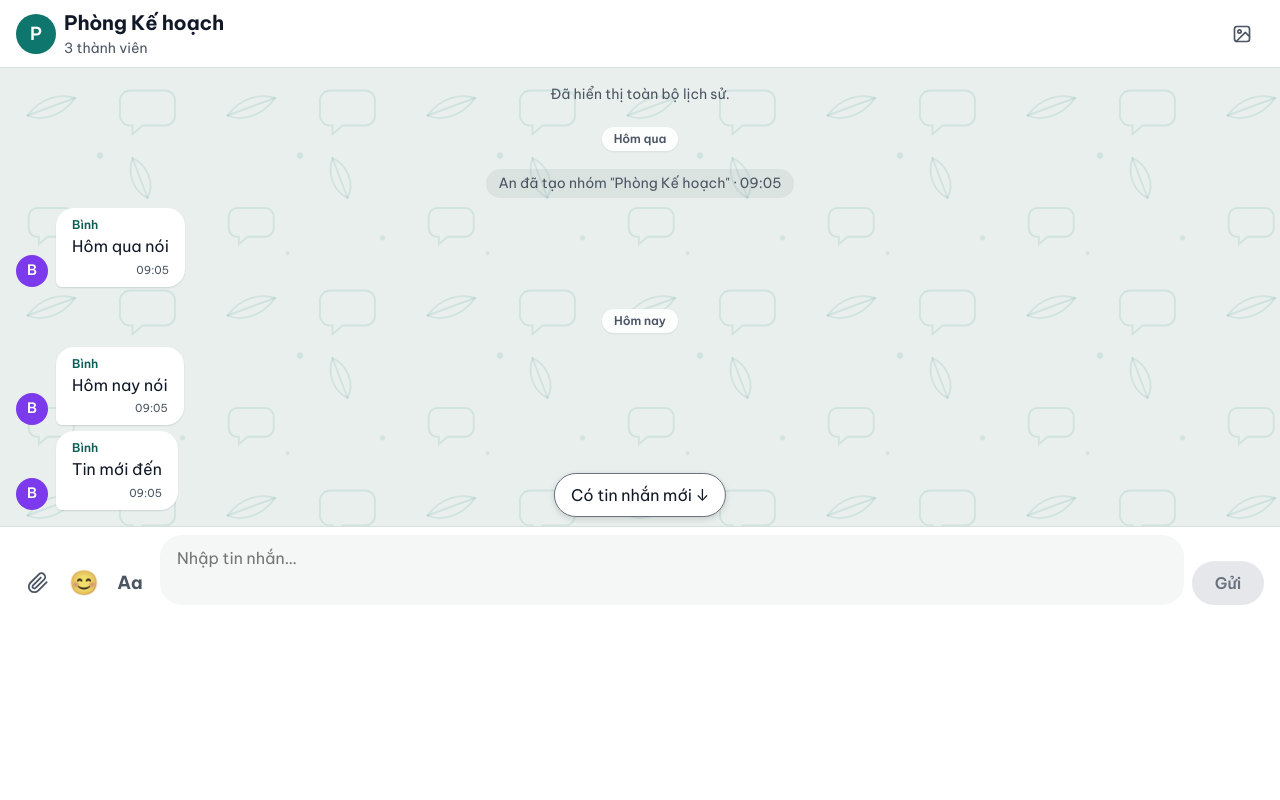
Test: SC-04 theo ui-design › GF-15: đang đọc tin cũ (không ở đáy) mà có tin mới → nút 'Có tin nhắn mới ↓'; bấm thì ẩn
Expected: the text "Hôm nay nói" is shown, [72, 374, 168, 397]
Click the button "Có tin nhắn mới ↓".
click(640, 494)  # box [554, 472, 726, 516]
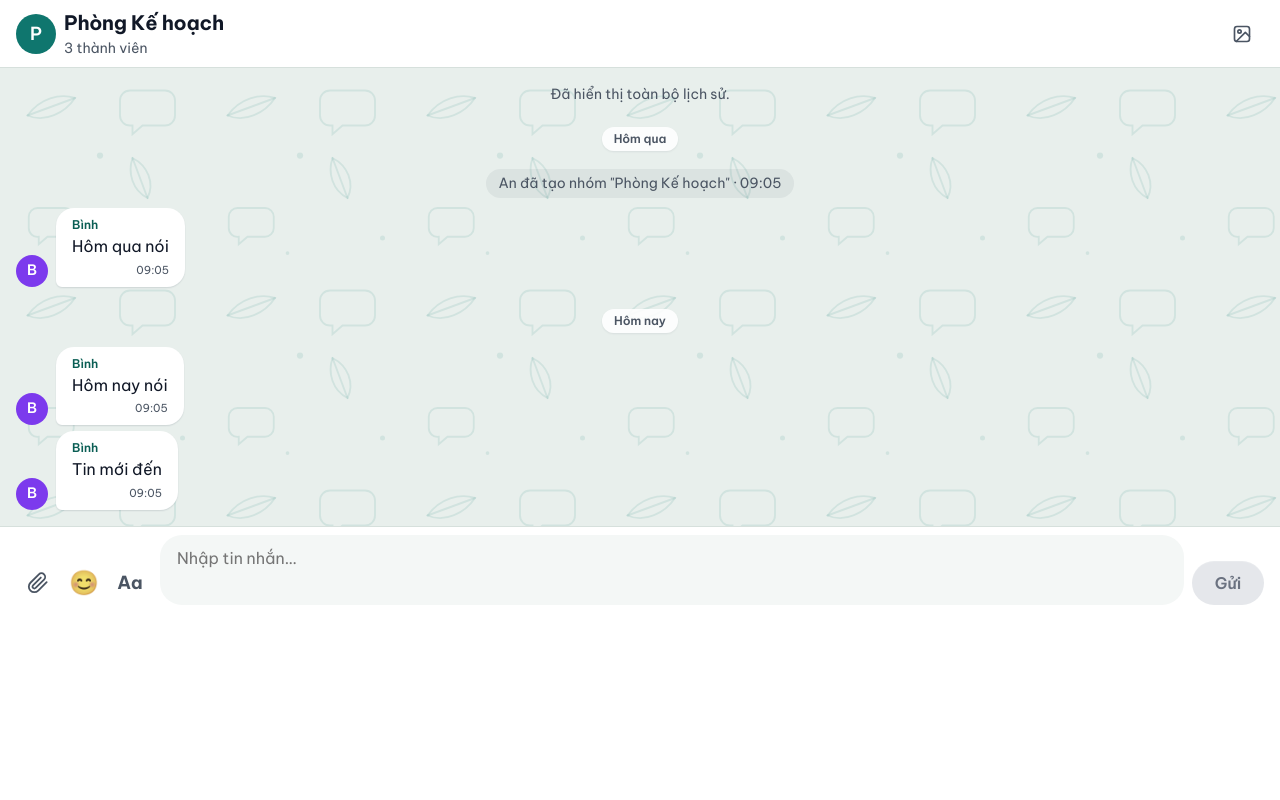
Result: the button "Có tin nhắn mới ↓" is gone
